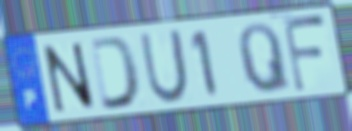1: (189, 29, 222, 99)
D: (88, 34, 143, 113)
F: (280, 13, 329, 96)
N: (40, 40, 99, 116)
Q: (236, 20, 294, 96)
U: (138, 27, 191, 106)
